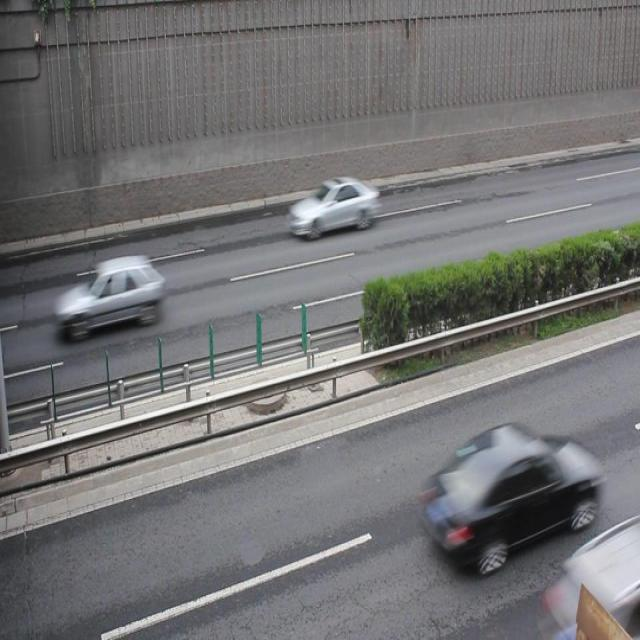car: (422, 418, 592, 569), (59, 252, 163, 334), (289, 176, 379, 236)
